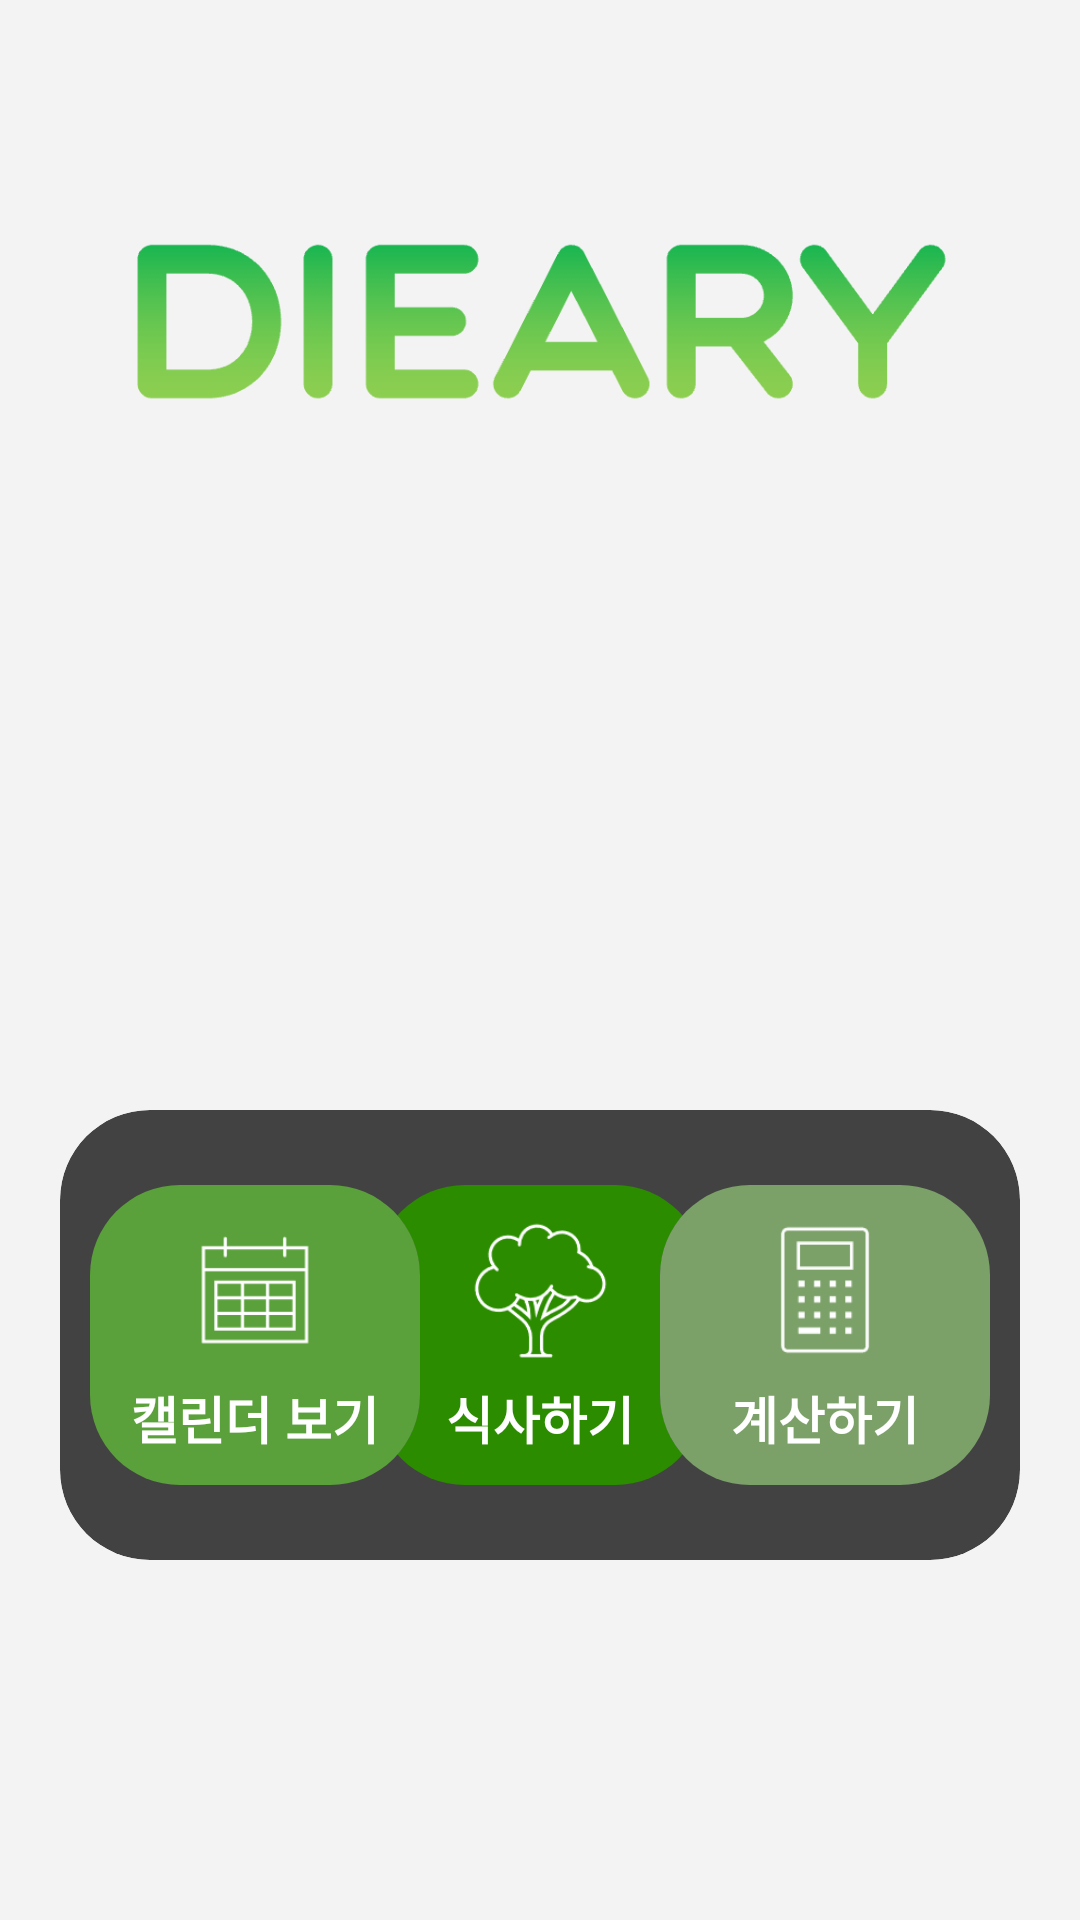

Icons on this 1080*1920 Android screen, each with the point to tap as point (x, y):
calendarwhite: point (255, 1290)
calwhite: point (825, 1290)
treewhite: point (540, 1290)
